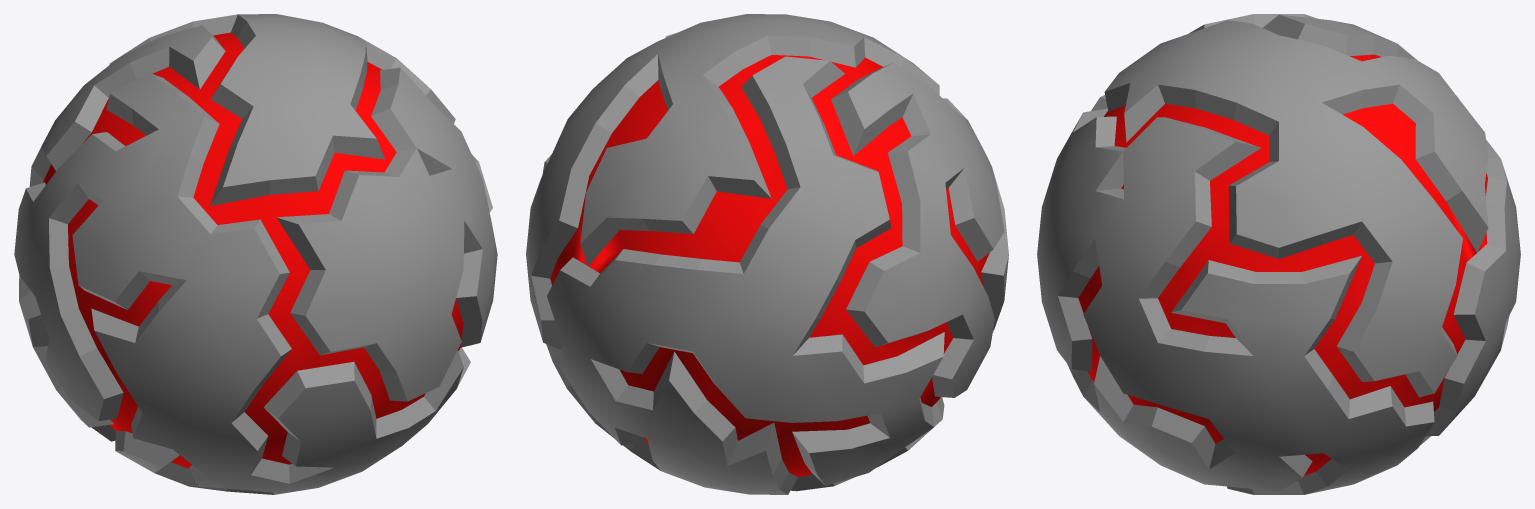
The model's file is Boulder.FBX.
3 renders of one model, left to right at view 1: azimuth 30°, elevation 25°; view 2: azimuth 150°, elevation 25°; view 3: azimuth 270°, elevation 25°, orthographic.
Parts seen in each view (by area): view 1: GeoSphere001; view 2: GeoSphere001; view 3: GeoSphere001.
Part boxes in pixels (box(x1,y1,x2,y2)): GeoSphere001: box(14, 14, 497, 494); GeoSphere001: box(526, 14, 1008, 494); GeoSphere001: box(1037, 14, 1520, 494).
Bounding box in the file's own units: 99.45 × 100 × 100.
